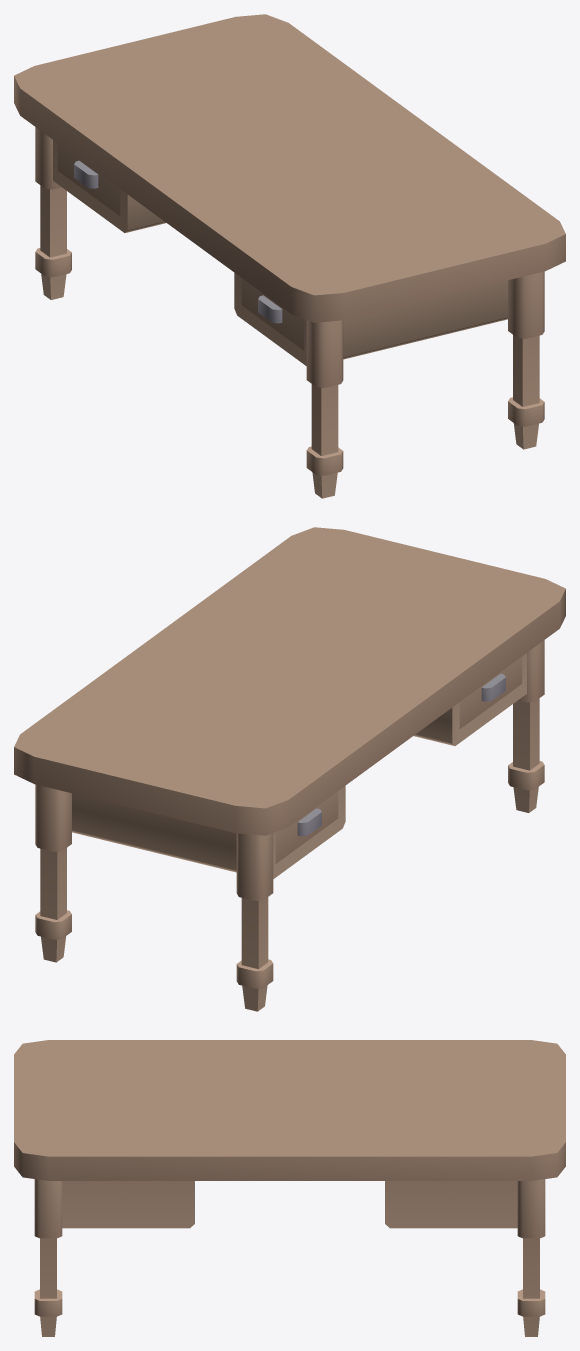
File: desk-classic-drawers_0.glb
The picture shows the model from 3 angles, top to bottom: view 1: azimuth 30°, elevation 25°; view 2: azimuth 150°, elevation 25°; view 3: azimuth 270°, elevation 25°; orthographic projection. The views are drawn at different scales.
Parts seen in each view (by area): view 1: desk-classic-drawers; view 2: desk-classic-drawers; view 3: desk-classic-drawers.
Part boxes in pixels (bbox=[...]): desk-classic-drawers: bbox=[14, 14, 565, 498]; desk-classic-drawers: bbox=[14, 527, 565, 1011]; desk-classic-drawers: bbox=[14, 1040, 565, 1336].
Size of the model in its own units: 0.8 by 0.6146 by 1.6.
